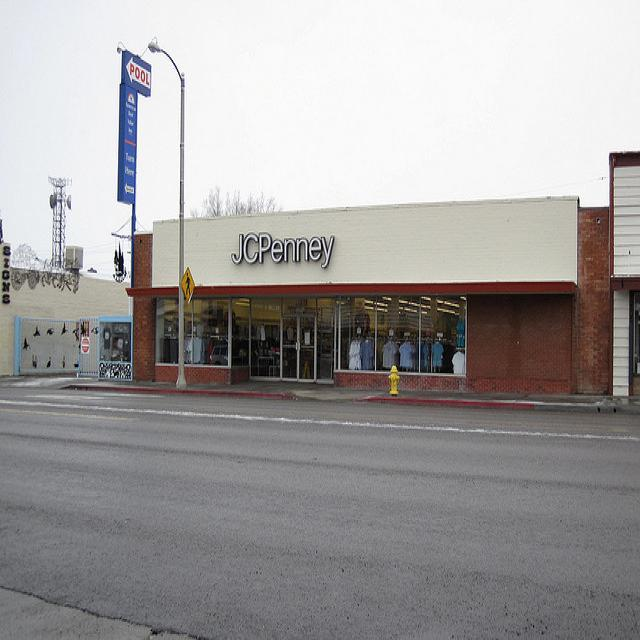fire_hydrant: (387, 364, 400, 394)
